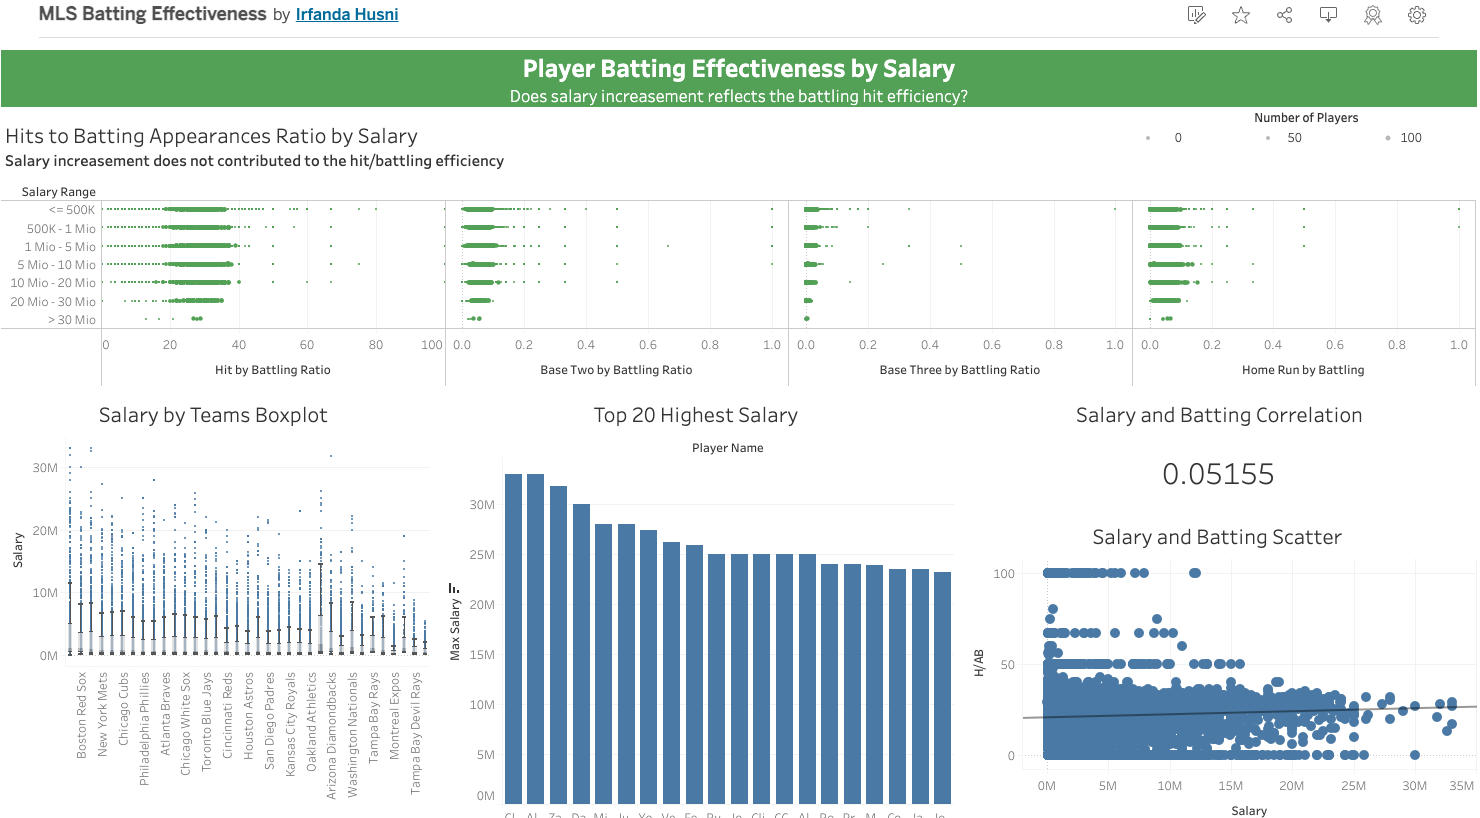

The dashboard page shown, as its layout file describes it:
{"tool":"tableau","page":{"name":"Dashboard 1","canvas":[1920,1080],"ordinal":0},"visuals":[{"type":"title","box":[8,8,1904,64]},{"type":"worksheet","title":"H/AB ","mark":"Automatic","rows":["Calculation_346143891013033989"],"cols":["Calculation_346143891006922752","Calculation_346143891009413122","Calculation_346143891021606919","Calculation_346143891034087432"],"box":[8,72,1744,333.3]},{"type":"legend","title":"H/AB ","param":"[federated.0n4w9xv1v5h59m1emjnvo1pismow].[sum:H:qk]","box":[1752,72,160,146]},{"type":"worksheet","title":"Salary by Team","mark":"Circle","rows":["salary"],"cols":["Team"],"box":[8,405.3,514,666.7]},{"type":"worksheet","title":"Top Highest Salary","mark":"Bar","rows":["Calculation_346143891039514634"],"cols":["Player Name"],"box":[522,405.3,615,666.7]},{"type":"worksheet","title":"Correlation","mark":"Automatic","box":[1137,405.3,615,98.1]},{"type":"worksheet","title":"Salary and Battling","mark":"Circle","rows":["Calculation_346143891006922752"],"cols":["salary"],"box":[1137,503.4,615,568.6]}]}

Visuals, with their boxes on the page's 1920x1080 design canvas (x1, y1, x2, y2). These are canvas units, not pixel positions in the 1480x818 screenshot, which may show the page scaled, cropped or inside an application window:
title: (8,8,1912,72)
"H/AB " worksheet: (8,72,1752,405)
"H/AB " legend: (1752,72,1912,218)
"Salary by Team" worksheet (Circle marks): (8,405,522,1072)
"Top Highest Salary" worksheet (Bar marks): (522,405,1137,1072)
"Correlation" worksheet: (1137,405,1752,503)
"Salary and Battling" worksheet (Circle marks): (1137,503,1752,1072)
